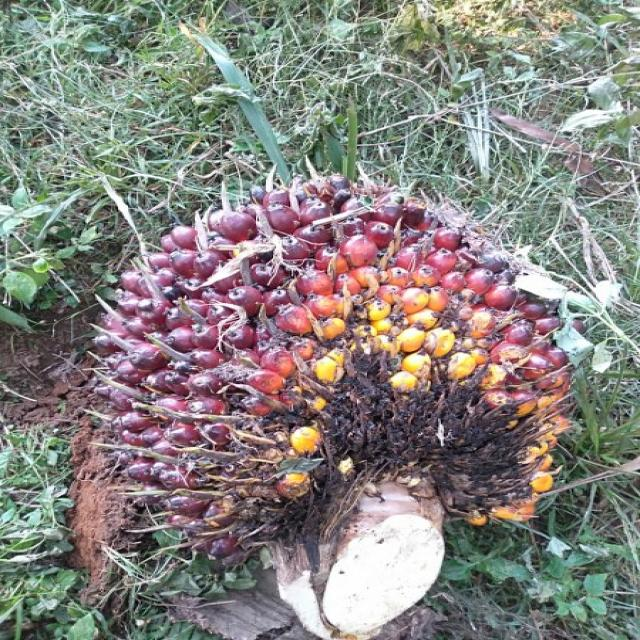fraksi 1: (57, 114, 618, 608)
